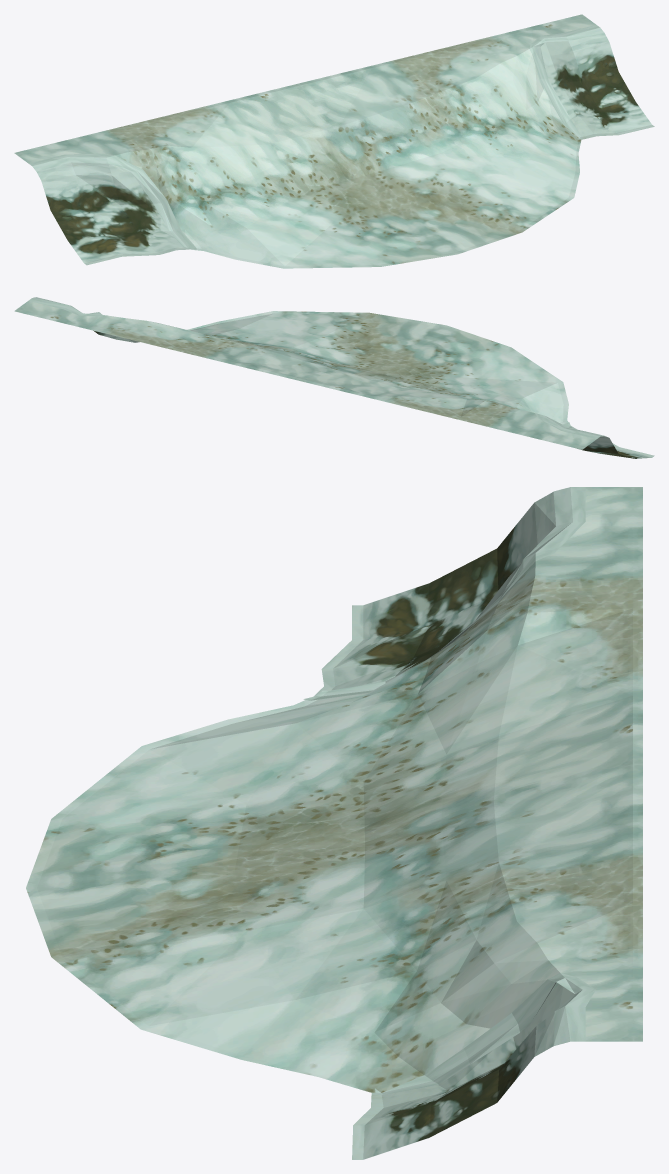
Rendered from tundra_ramp_large01.fbx.
3 renders of one model, top to bottom at view 1: azimuth 30°, elevation 25°; view 2: azimuth 150°, elevation 25°; view 3: azimuth 270°, elevation 25°, orthographic. The views are drawn at different scales.
Visible parts, largest first — view 1: obj4.003; view 2: obj4.003; view 3: obj4.003.
Boxes of the visible parts, <box> form: obj4.003: <box>14,14,654,268</box>; obj4.003: <box>14,297,654,458</box>; obj4.003: <box>26,487,642,1159</box>.
Bounding box in the file's own units: 40 × 4.01 × 18.82.
